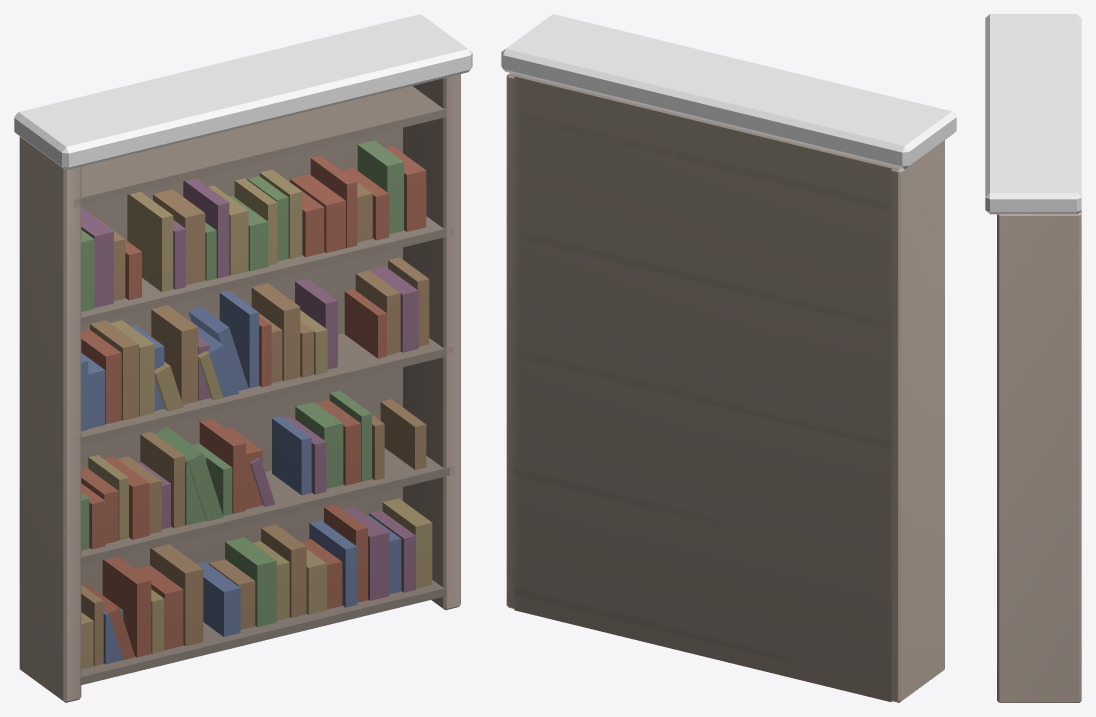
Rendered from bookshelf_a.glb.
The picture shows the model from 3 angles, left to right: view 1: azimuth 30°, elevation 25°; view 2: azimuth 150°, elevation 25°; view 3: azimuth 270°, elevation 25°; orthographic projection. The views are drawn at different scales.
Visible parts, largest first — view 1: book; view 2: book; view 3: book.
Boxes of the visible parts, bbox=[...] form: book: bbox=[14, 14, 472, 702]; book: bbox=[501, 14, 956, 702]; book: bbox=[985, 14, 1081, 702].
Bounding box in the file's own units: 1.84 × 2.4 × 0.41.
